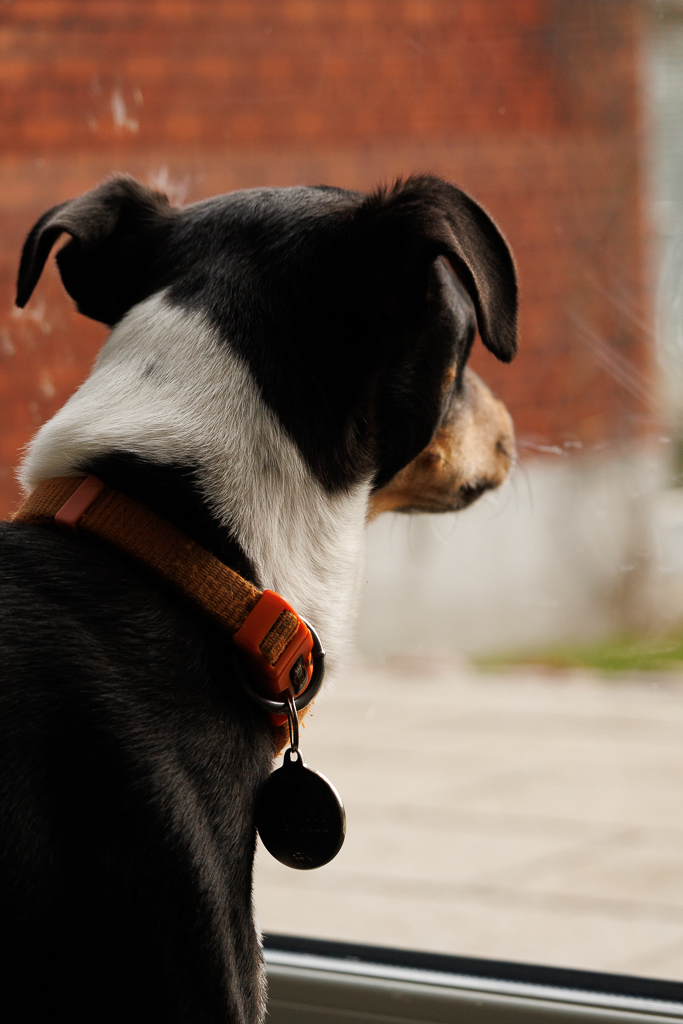Dog: (0, 165, 538, 1024)
